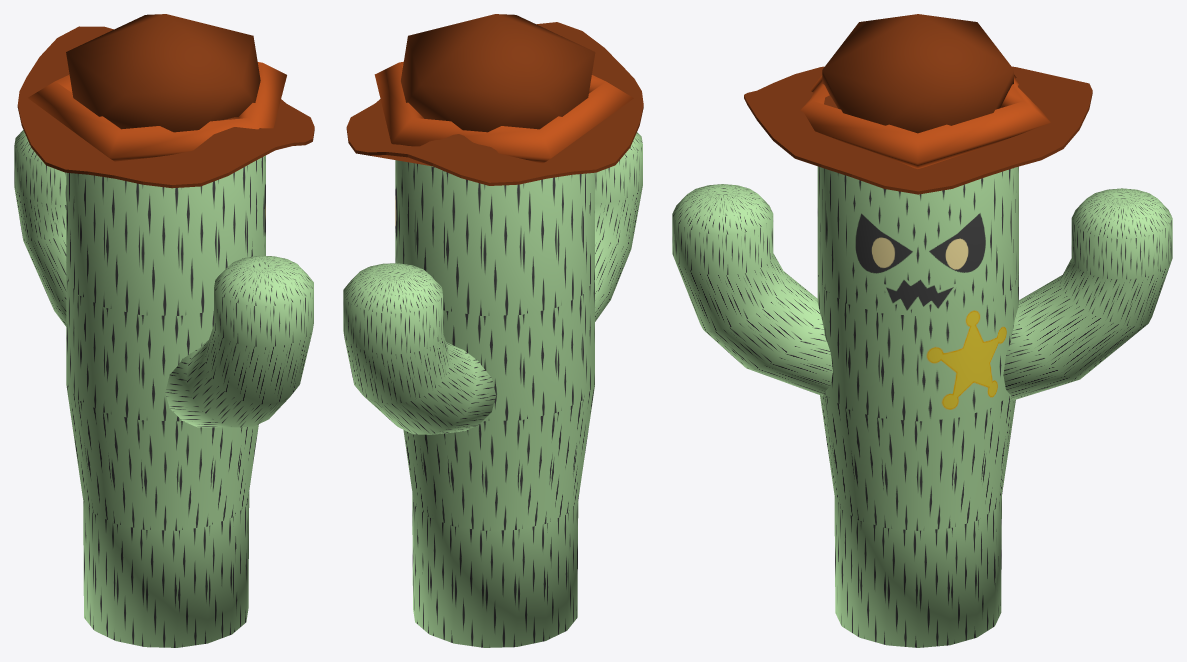
The model's file is CACTUSSY.fbx.
The picture shows the model from 3 angles, left to right: view 1: azimuth 30°, elevation 25°; view 2: azimuth 150°, elevation 25°; view 3: azimuth 270°, elevation 25°; orthographic projection.
Visible parts, largest first — view 1: Body, Hat, Arm_R, Arm_L; view 2: Body, Hat, Arm_L, Arm_R; view 3: Body, Hat, Arm_L, Arm_R.
Boxes of the visible parts, box(x1,y1,x2,y2) form: Body: box(66, 155, 265, 647); Hat: box(17, 14, 314, 188); Arm_R: box(165, 255, 313, 427); Arm_L: box(14, 130, 66, 326); Body: box(395, 160, 594, 647); Hat: box(346, 14, 643, 185); Arm_L: box(343, 263, 496, 434); Arm_R: box(595, 132, 642, 321); Body: box(817, 166, 1018, 647); Hat: box(744, 14, 1092, 194); Arm_L: box(1003, 188, 1172, 400); Arm_R: box(672, 184, 832, 395).
Bounding box in the file's own units: 276 × 656 × 496.
1 material, 1 textured.
